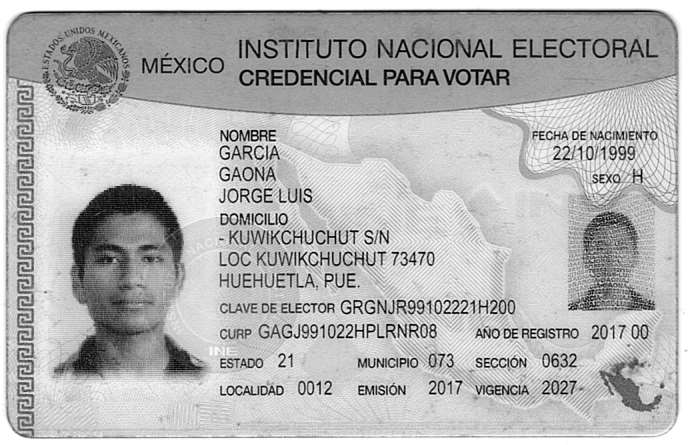ESCUDO: (42, 26, 130, 114)
MAPA: (599, 370, 662, 412)
PALABRA: (513, 38, 659, 58)
